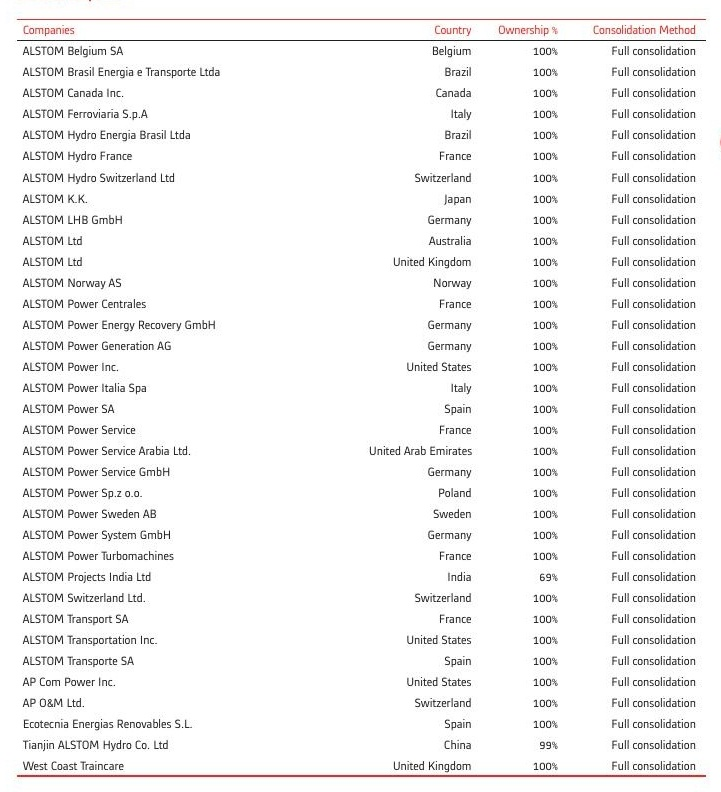table: (0, 0, 721, 792)
